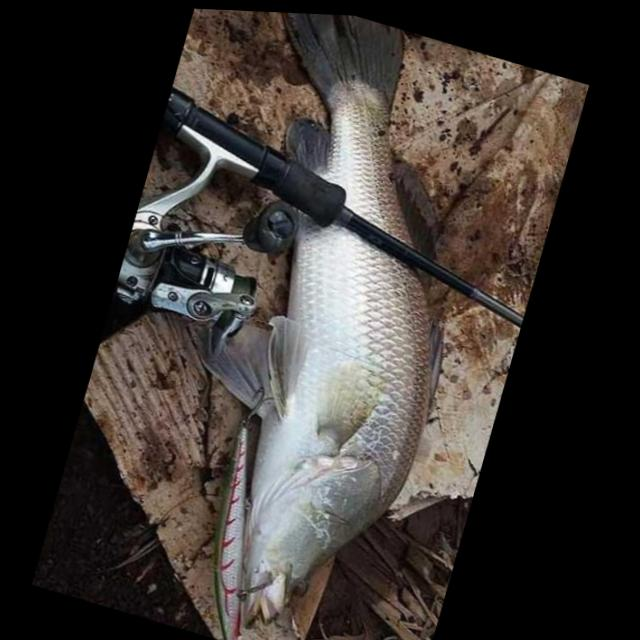Seabass: (117, 6, 533, 640)
